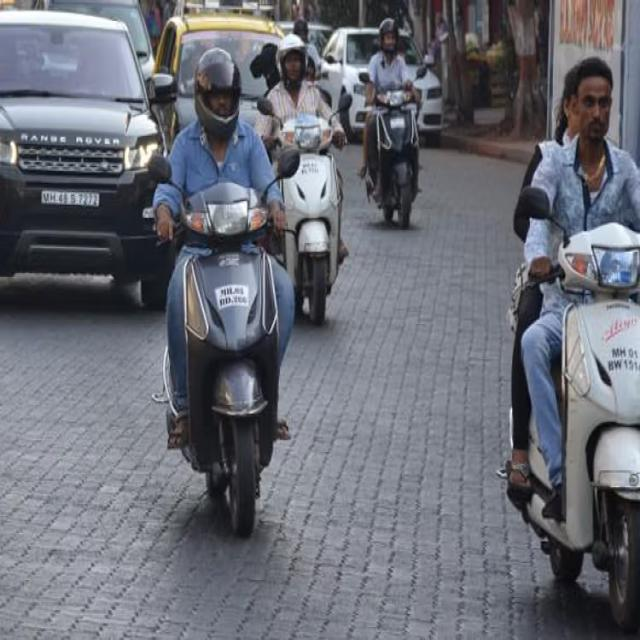Vehicles: (510, 183, 640, 640), (0, 10, 174, 345), (161, 179, 293, 552), (258, 94, 367, 336), (362, 67, 432, 252)
